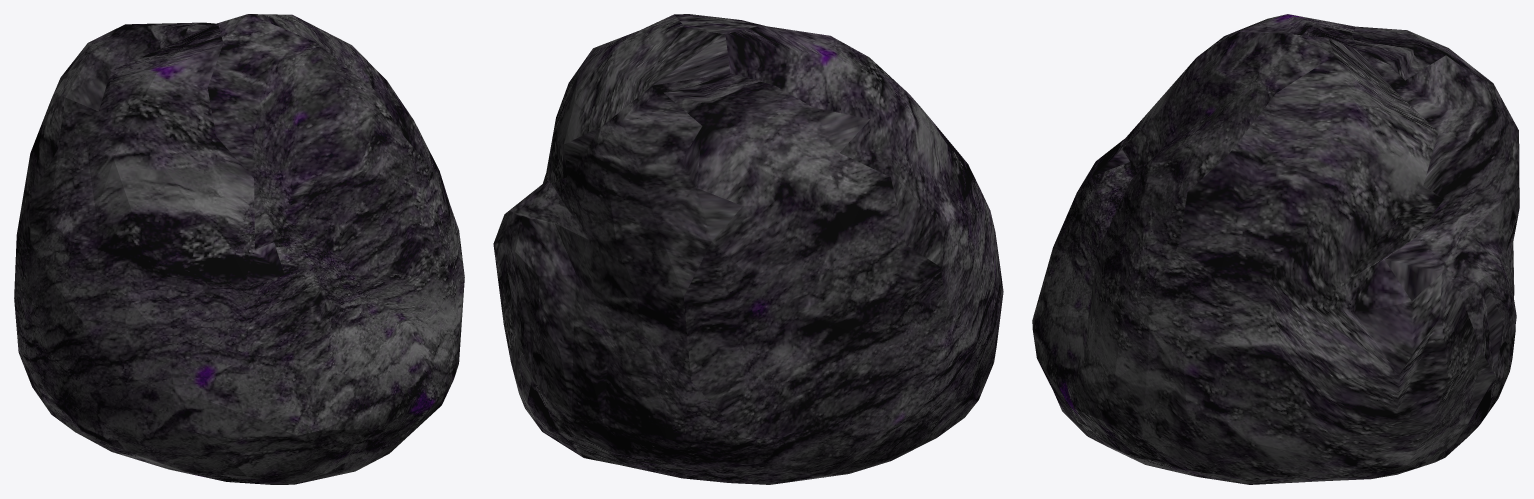
The model's file is rocher2.obj.
3 views of the same model, side by side, from view 1: azimuth 30°, elevation 25°; view 2: azimuth 150°, elevation 25°; view 3: azimuth 270°, elevation 25° (orthographic). The views are drawn at different scales.
Parts seen in each view (by area): view 1: Icosphere; view 2: Icosphere; view 3: Icosphere.
Boxes of the visible parts, x1,y1,x2,y2 form: Icosphere: [14, 14, 464, 484]; Icosphere: [493, 14, 1003, 484]; Icosphere: [1032, 14, 1519, 484].
Bounding box in the file's own units: 1 × 0.8853 × 1.04.
